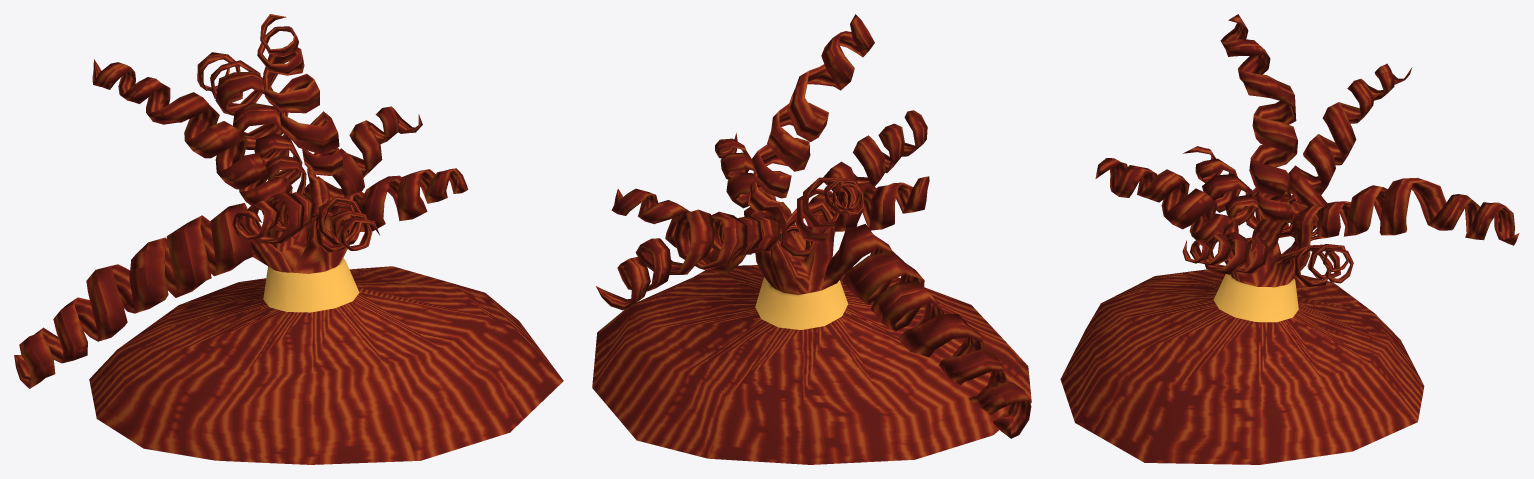
Rendered from curls.fbx.
The picture shows the model from 3 angles, left to right: view 1: azimuth 30°, elevation 25°; view 2: azimuth 150°, elevation 25°; view 3: azimuth 270°, elevation 25°; orthographic projection. The views are drawn at different scales.
Parts seen in each view (by area): view 1: curls; view 2: curls; view 3: curls.
Boxes of the visible parts, box(x1,y1,x2,y2) form: curls: box(14, 14, 563, 464); curls: box(592, 14, 1031, 464); curls: box(1060, 14, 1519, 464).
Bounding box in the file's own units: 62.93 × 50.19 × 59.48.
